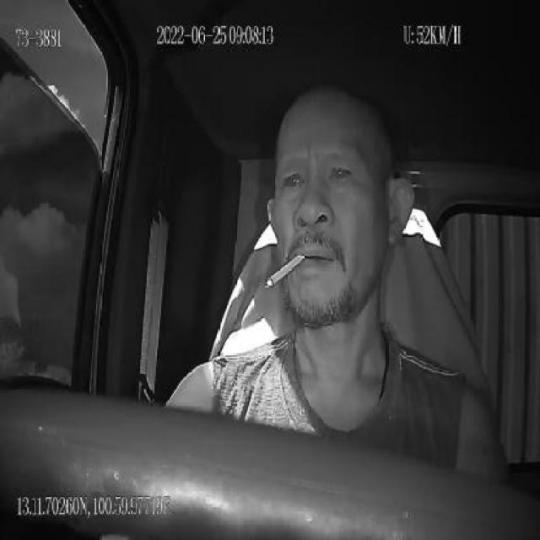smoking: (263, 252, 304, 290)
